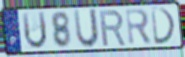8: (50, 10, 72, 50)
D: (149, 6, 178, 46)
R: (124, 7, 154, 47), (98, 9, 127, 48)
U: (72, 7, 100, 50), (21, 10, 49, 51)
